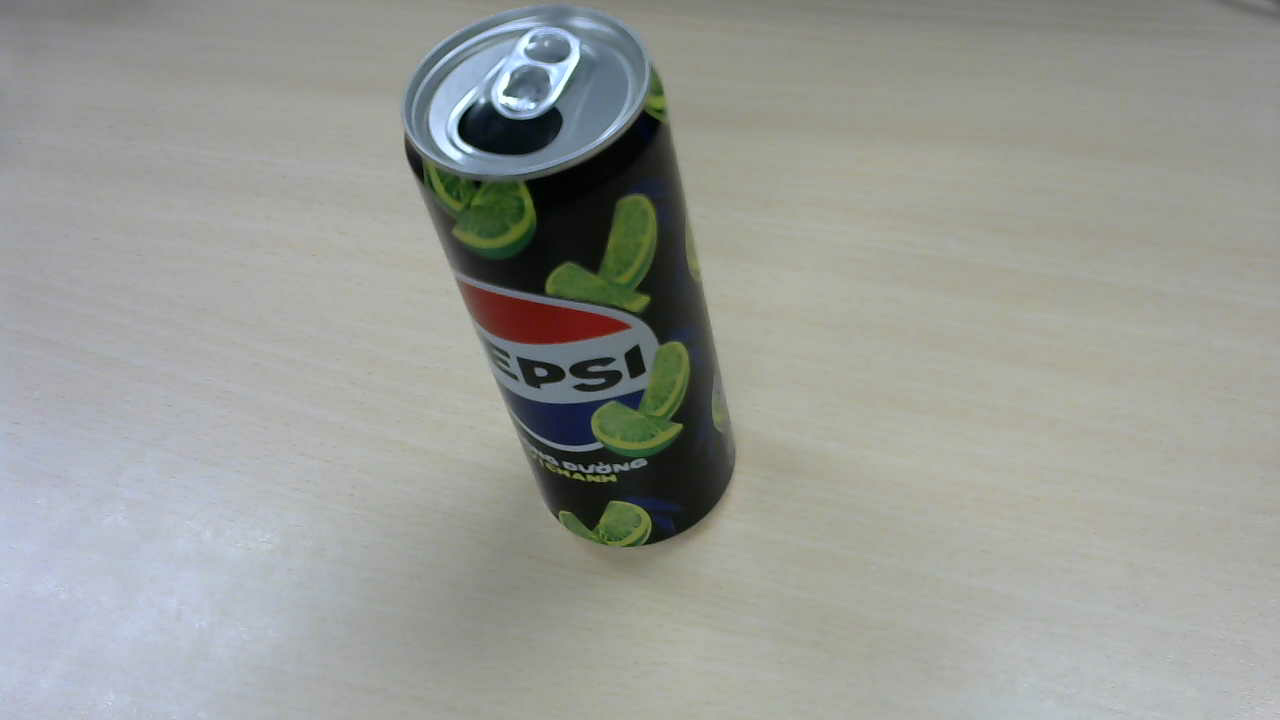Pepsi: (404, 12, 743, 551)
